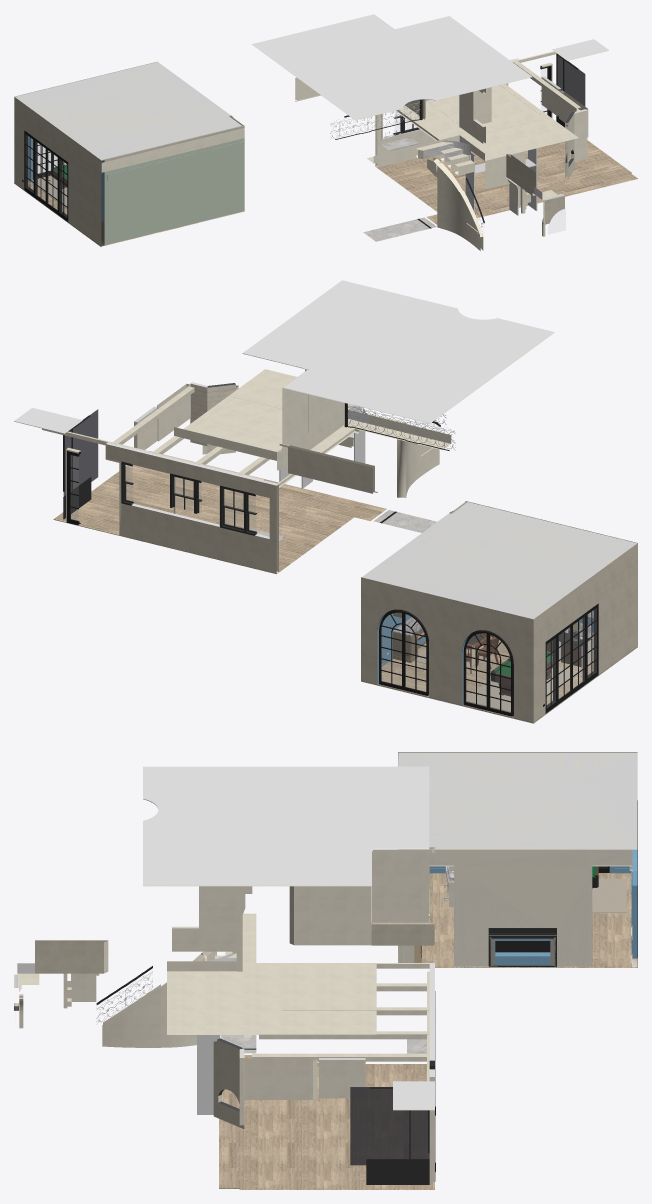
The model's file is game-room-cb394c7ad517.glb.
The picture shows the model from 3 angles, top to bottom: view 1: azimuth 30°, elevation 25°; view 2: azimuth 150°, elevation 25°; view 3: azimuth 270°, elevation 25°; orthographic projection. The views are drawn at different scales.
Parts seen in each view (by area): view 1: game-room-look-9d91b47435c6fb33, game-room-4a969f5cc1ae3dfe, game-room-30c5953c9ad73e5d, game-room-look-3b0077416469e01b, game-room-look-2575515a05775d9e, game-room-039192b0560cfac3, game-room-50d54560d247b537, game-room-look-8c6a7019fd0063e7, game-room-2575515a05775d9e, game-room-f4800b31bfeb29e4, game-room-look-bfb9fa537cd11d1d, game-room-look-cbd4bf73d9724a66 (+20 smaller); view 2: game-room-look-9d91b47435c6fb33, game-room-4a969f5cc1ae3dfe, game-room-look-3b0077416469e01b, game-room-969b861f9850351e, game-room-look-bfb9fa537cd11d1d, game-room-039192b0560cfac3, game-room-look-2575515a05775d9e, game-room-50d54560d247b537, game-room-3b0077416469e01b, game-room-look-245f595ae2832e16, game-room-ebdc05650cf31826, game-room-ca241f91fd698c40 (+23 smaller); view 3: game-room-look-9d91b47435c6fb33, game-room-4a969f5cc1ae3dfe, game-room-look-3b0077416469e01b, game-room-3e6709f91b43c3bf, game-room-look-2575515a05775d9e, game-room-50d54560d247b537, game-room-look-69af8f587252f9fa, game-room-3b0077416469e01b, game-room-look-cbd4bf73d9724a66, game-room-look-32b959c9aa406288, game-room-look-8c6a7019fd0063e7, game-room-look-c51ecd664a3b22a3 (+22 smaller).
Boxes of the visible parts, x1,y1,x2,y2 form: game-room-look-9d91b47435c6fb33: [251, 14, 531, 120]; game-room-4a969f5cc1ae3dfe: [14, 62, 242, 160]; game-room-30c5953c9ad73e5d: [104, 126, 244, 245]; game-room-look-3b0077416469e01b: [375, 140, 637, 224]; game-room-look-2575515a05775d9e: [367, 84, 578, 163]; game-room-039192b0560cfac3: [14, 97, 104, 246]; game-room-50d54560d247b537: [14, 61, 243, 160]; game-room-look-8c6a7019fd0063e7: [427, 157, 483, 250]; game-room-2575515a05775d9e: [101, 128, 244, 172]; game-room-f4800b31bfeb29e4: [24, 130, 68, 221]; game-room-look-bfb9fa537cd11d1d: [375, 58, 518, 167]; game-room-look-cbd4bf73d9724a66: [557, 55, 585, 106]; game-room-look-9d91b47435c6fb33: [242, 280, 554, 423]; game-room-4a969f5cc1ae3dfe: [361, 502, 637, 619]; game-room-look-3b0077416469e01b: [53, 451, 386, 574]; game-room-969b861f9850351e: [361, 578, 529, 721]; game-room-look-bfb9fa537cd11d1d: [105, 442, 278, 573]; game-room-039192b0560cfac3: [529, 544, 637, 722]; game-room-look-2575515a05775d9e: [174, 369, 451, 460]; game-room-50d54560d247b537: [361, 502, 637, 619]; game-room-3b0077416469e01b: [361, 636, 637, 722]; game-room-look-245f595ae2832e16: [288, 445, 374, 493]; game-room-ebdc05650cf31826: [487, 632, 512, 716]; game-room-ca241f91fd698c40: [403, 612, 427, 695]; game-room-look-9d91b47435c6fb33: [143, 766, 429, 886]; game-room-4a969f5cc1ae3dfe: [398, 752, 637, 849]; game-room-look-3b0077416469e01b: [219, 1055, 434, 1189]; game-room-3e6709f91b43c3bf: [398, 849, 632, 966]; game-room-look-2575515a05775d9e: [167, 913, 376, 1034]; game-room-50d54560d247b537: [398, 752, 637, 849]; game-room-look-69af8f587252f9fa: [289, 886, 371, 945]; game-room-3b0077416469e01b: [398, 873, 637, 967]; game-room-look-cbd4bf73d9724a66: [350, 1087, 429, 1165]; game-room-look-32b959c9aa406288: [372, 849, 429, 922]; game-room-look-8c6a7019fd0063e7: [102, 951, 216, 1047]; game-room-look-c51ecd664a3b22a3: [172, 886, 236, 951].
Bounding box in the file's own units: 21.68 × 6.36 × 16.78.
Materials: 72 (18 with a texture image).
